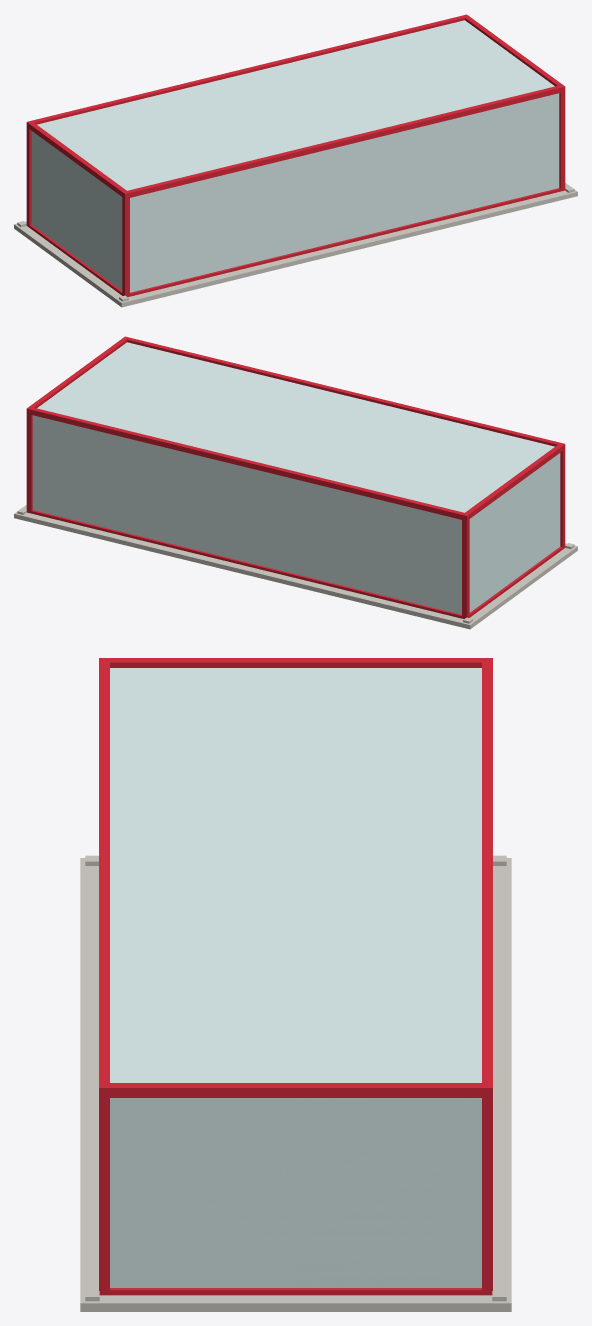
The model's file is redbull-f1.glb.
3 views of the same model, one above another, from view 1: azimuth 30°, elevation 25°; view 2: azimuth 150°, elevation 25°; view 3: azimuth 270°, elevation 25° (orthographic). The views are drawn at different scales.
Size of the model in its own units: 0.66 by 0.1495 by 0.27.
